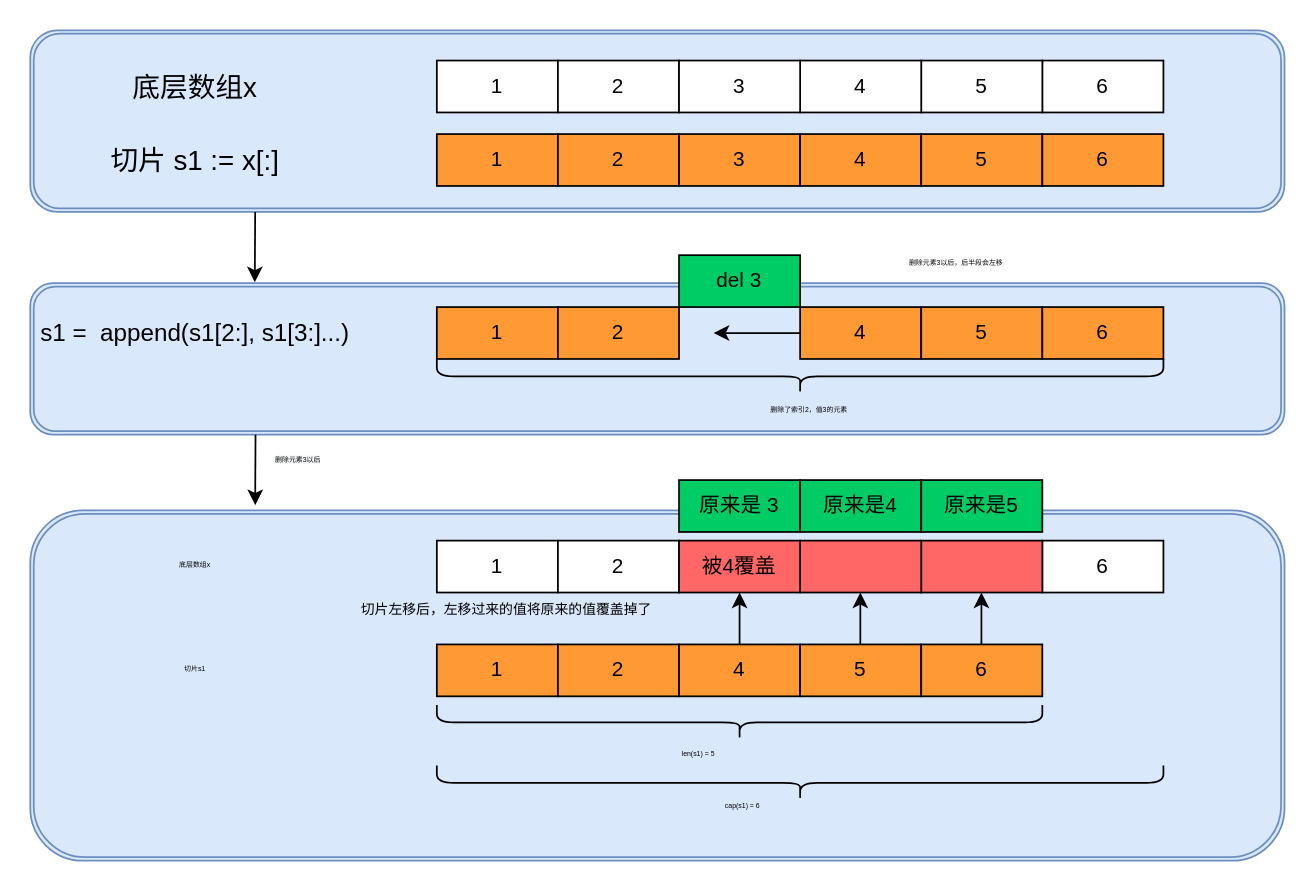
Some shapes in this 1315 by 891 pixel diagram are drawn without their labels. Each missing label, with the box of its shape:
被5覆盖: (798, 539, 921, 593)
被6覆盖: (919, 539, 1042, 593)
